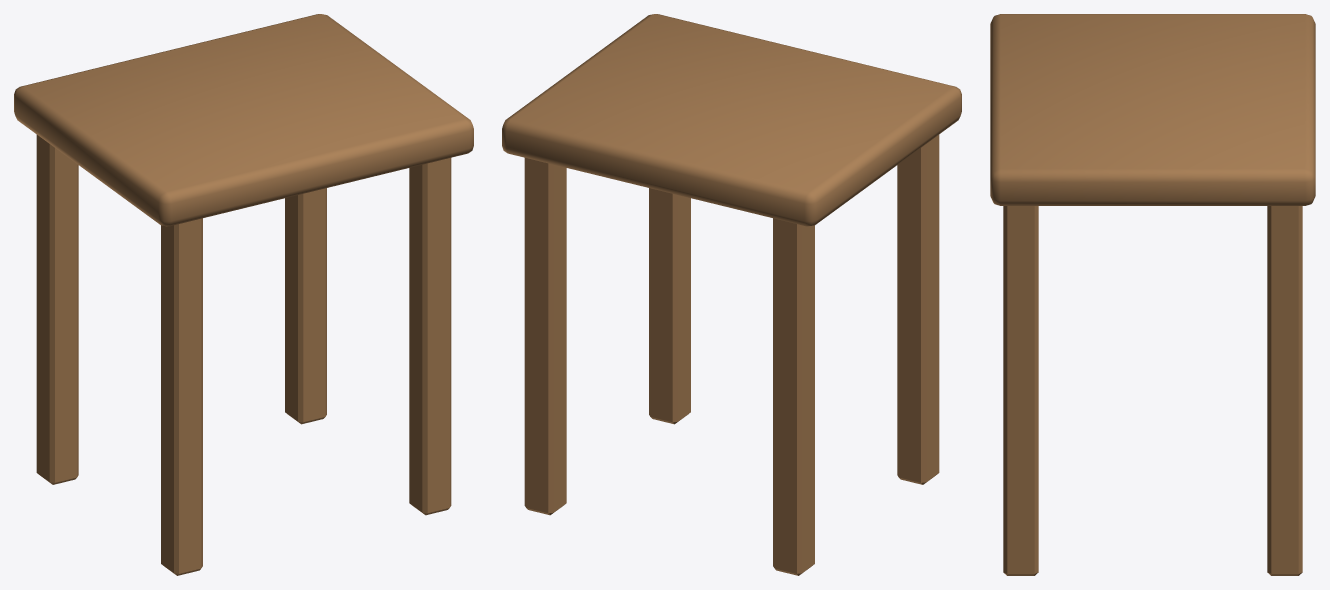
Rendered from i_stool_1.glb.
3 views of the same model, side by side, from view 1: azimuth 30°, elevation 25°; view 2: azimuth 150°, elevation 25°; view 3: azimuth 270°, elevation 25° (orthographic). The views are drawn at different scales.
Parts seen in each view (by area): view 1: o.004, o.002, o, o.001, o.003; view 2: o.004, o.003, o.001, o, o.002; view 3: o.004, o.002, o.003.
Part boxes in pixels (x1=…): o.004: x1=14, y1=14, x2=473, y2=226; o.002: x1=409, y1=158, x2=451, y2=515; o: x1=161, y1=218, x2=202, y2=575; o.001: x1=36, y1=134, x2=78, y2=484; o.003: x1=285, y1=188, x2=326, y2=424; o.004: x1=502, y1=14, x2=961, y2=226; o.003: x1=524, y1=158, x2=566, y2=515; o.001: x1=773, y1=218, x2=814, y2=575; o: x1=897, y1=134, x2=939, y2=484; o.002: x1=649, y1=188, x2=690, y2=424; o.004: x1=990, y1=14, x2=1315, y2=205; o.002: x1=1003, y1=206, x2=1038, y2=575; o.003: x1=1267, y1=206, x2=1302, y2=575.
Bounding box in the file's own units: 0.38 × 0.45 × 0.32.
